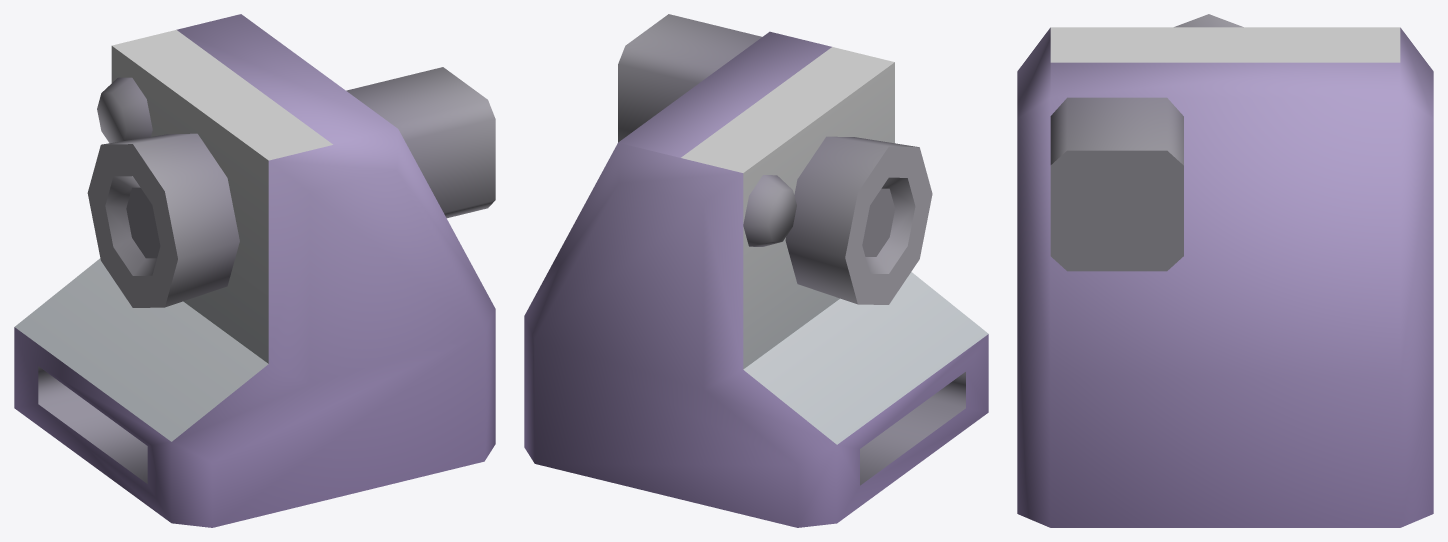
File: photo-polaroid (%secret).glb
3 views of the same model, side by side, from view 1: azimuth 30°, elevation 25°; view 2: azimuth 150°, elevation 25°; view 3: azimuth 270°, elevation 25° (orthographic). The views are drawn at different scales.
Parts seen in each view (by area): view 1: photo-polaroid (%secret); view 2: photo-polaroid (%secret); view 3: photo-polaroid (%secret).
Boxes of the visible parts, <box> form: photo-polaroid (%secret): <box>14,14,495,527</box>; photo-polaroid (%secret): <box>524,14,988,527</box>; photo-polaroid (%secret): <box>1017,14,1433,527</box>.
Bounding box in the file's own units: 0.25 × 0.25 × 0.25.
